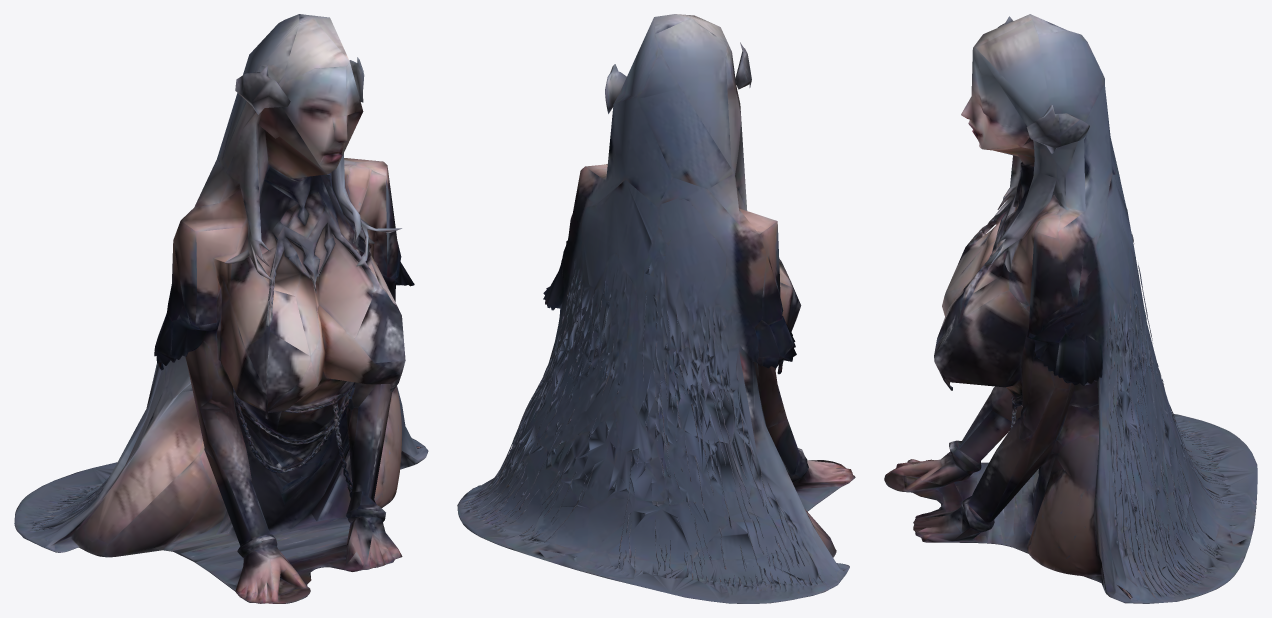
3 views of the same model, side by side, from view 1: azimuth 30°, elevation 25°; view 2: azimuth 150°, elevation 25°; view 3: azimuth 270°, elevation 25° (orthographic). The views are drawn at different scales.
Parts seen in each view (by area): view 1: node_0; view 2: node_0; view 3: node_0.
Part boxes in pixels (bbox=[...]): node_0: bbox=[14, 14, 428, 603]; node_0: bbox=[457, 14, 855, 603]; node_0: bbox=[884, 14, 1257, 603].
Size of the model in its own units: 0.732 by 0.8995 by 0.6018.
Materials: 1 (1 with a texture image).
